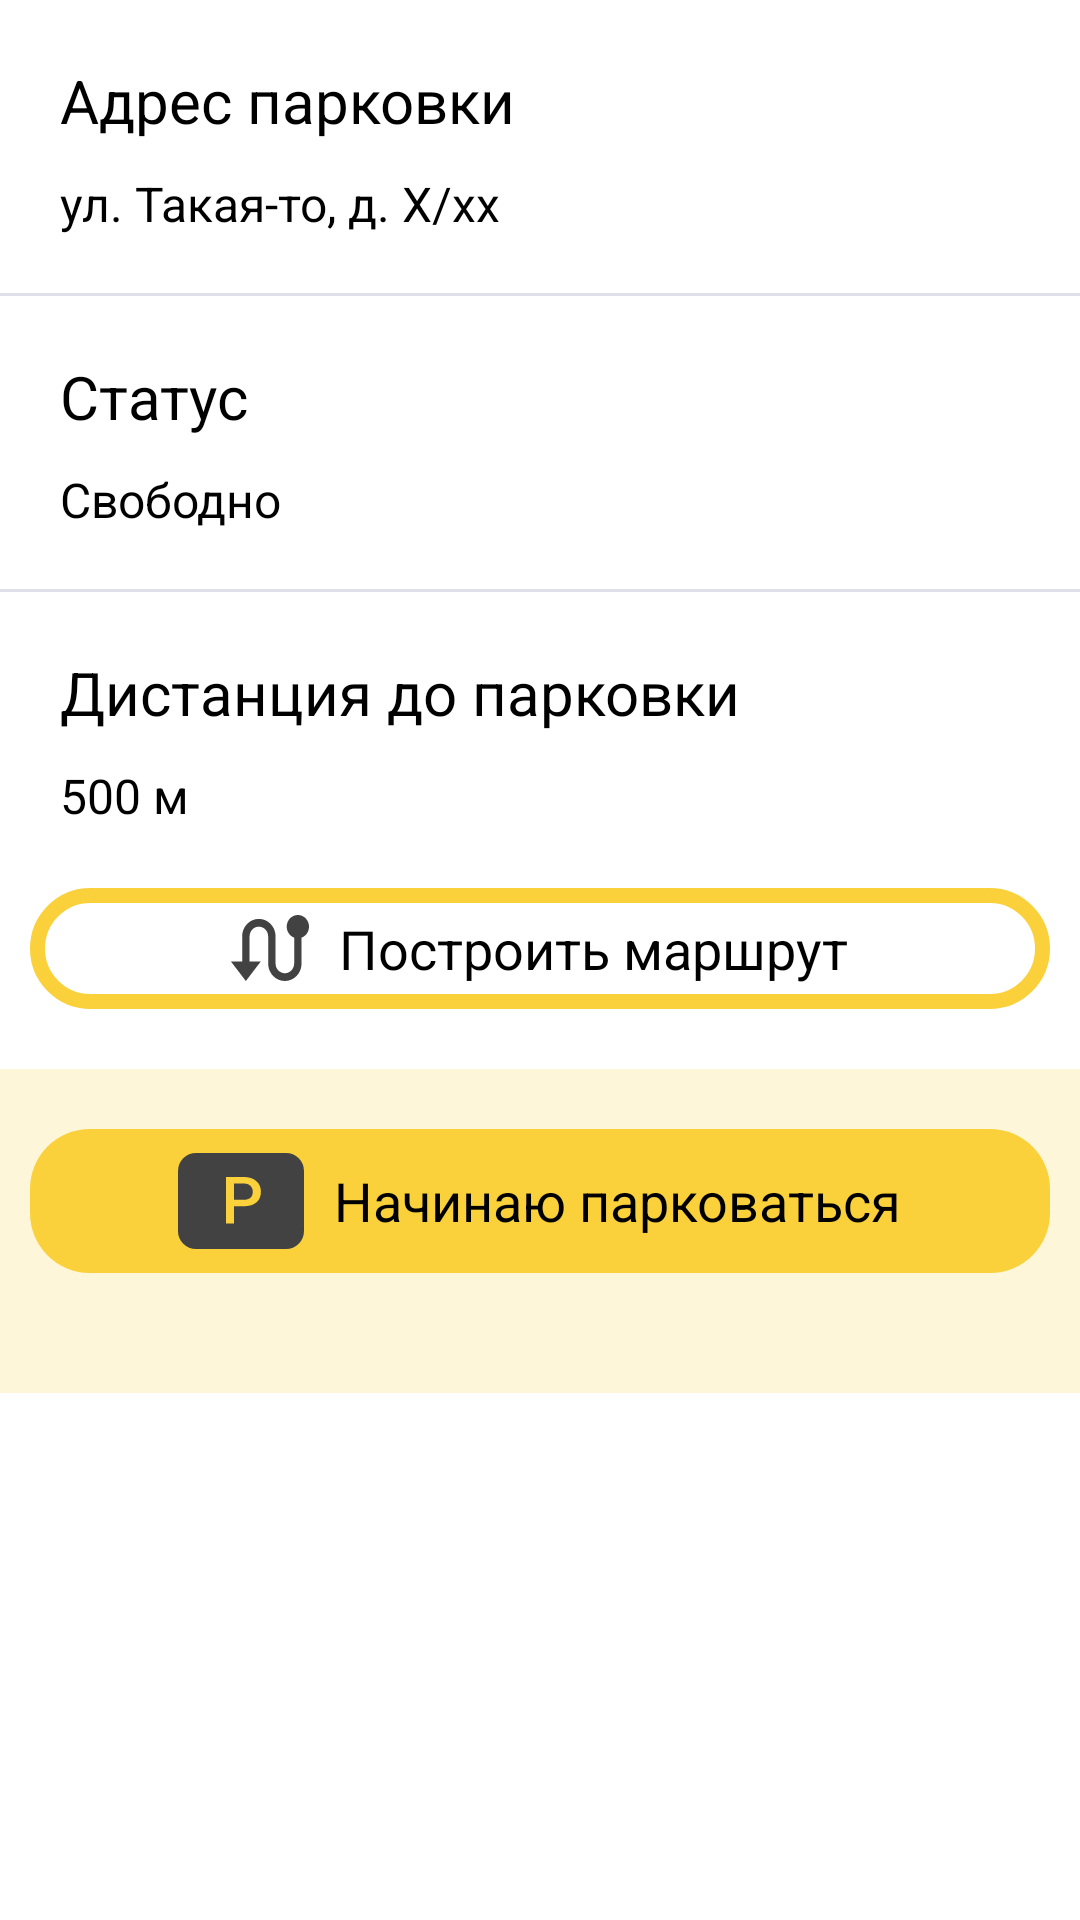

Named icons in this screenshot (1080x1920) and their centers, (x=x, y=y):
parking symbol: (x=241, y=1201)
route: (x=270, y=948)
